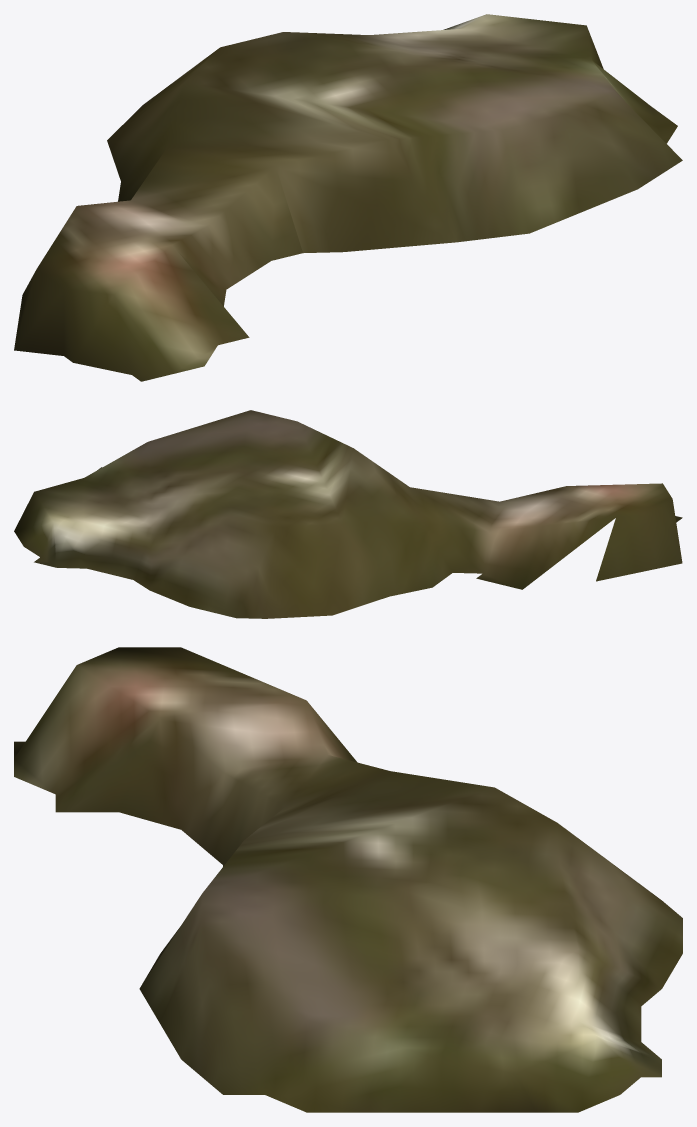
Rendered from pir_m_are_isl_rambleshack_worldmap.fbx.
3 renders of one model, top to bottom at view 1: azimuth 30°, elevation 25°; view 2: azimuth 150°, elevation 25°; view 3: azimuth 270°, elevation 25°, orthographic. The views are drawn at different scales.
Parts seen in each view (by area): view 1: top_mesh; view 2: top_mesh; view 3: top_mesh.
Boxes of the visible parts, <box> form: top_mesh: <box>14,14,682,381</box>; top_mesh: <box>14,410,682,618</box>; top_mesh: <box>14,647,682,1112</box>.
Size of what is drawn, in the model's own units: 4.72 by 0.516 by 3.28.
1 material, 1 textured.
